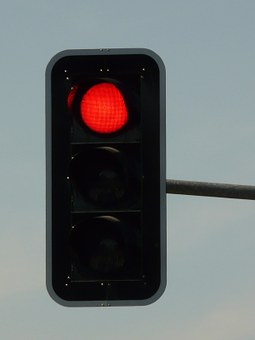trafic: (44, 48, 166, 307)
